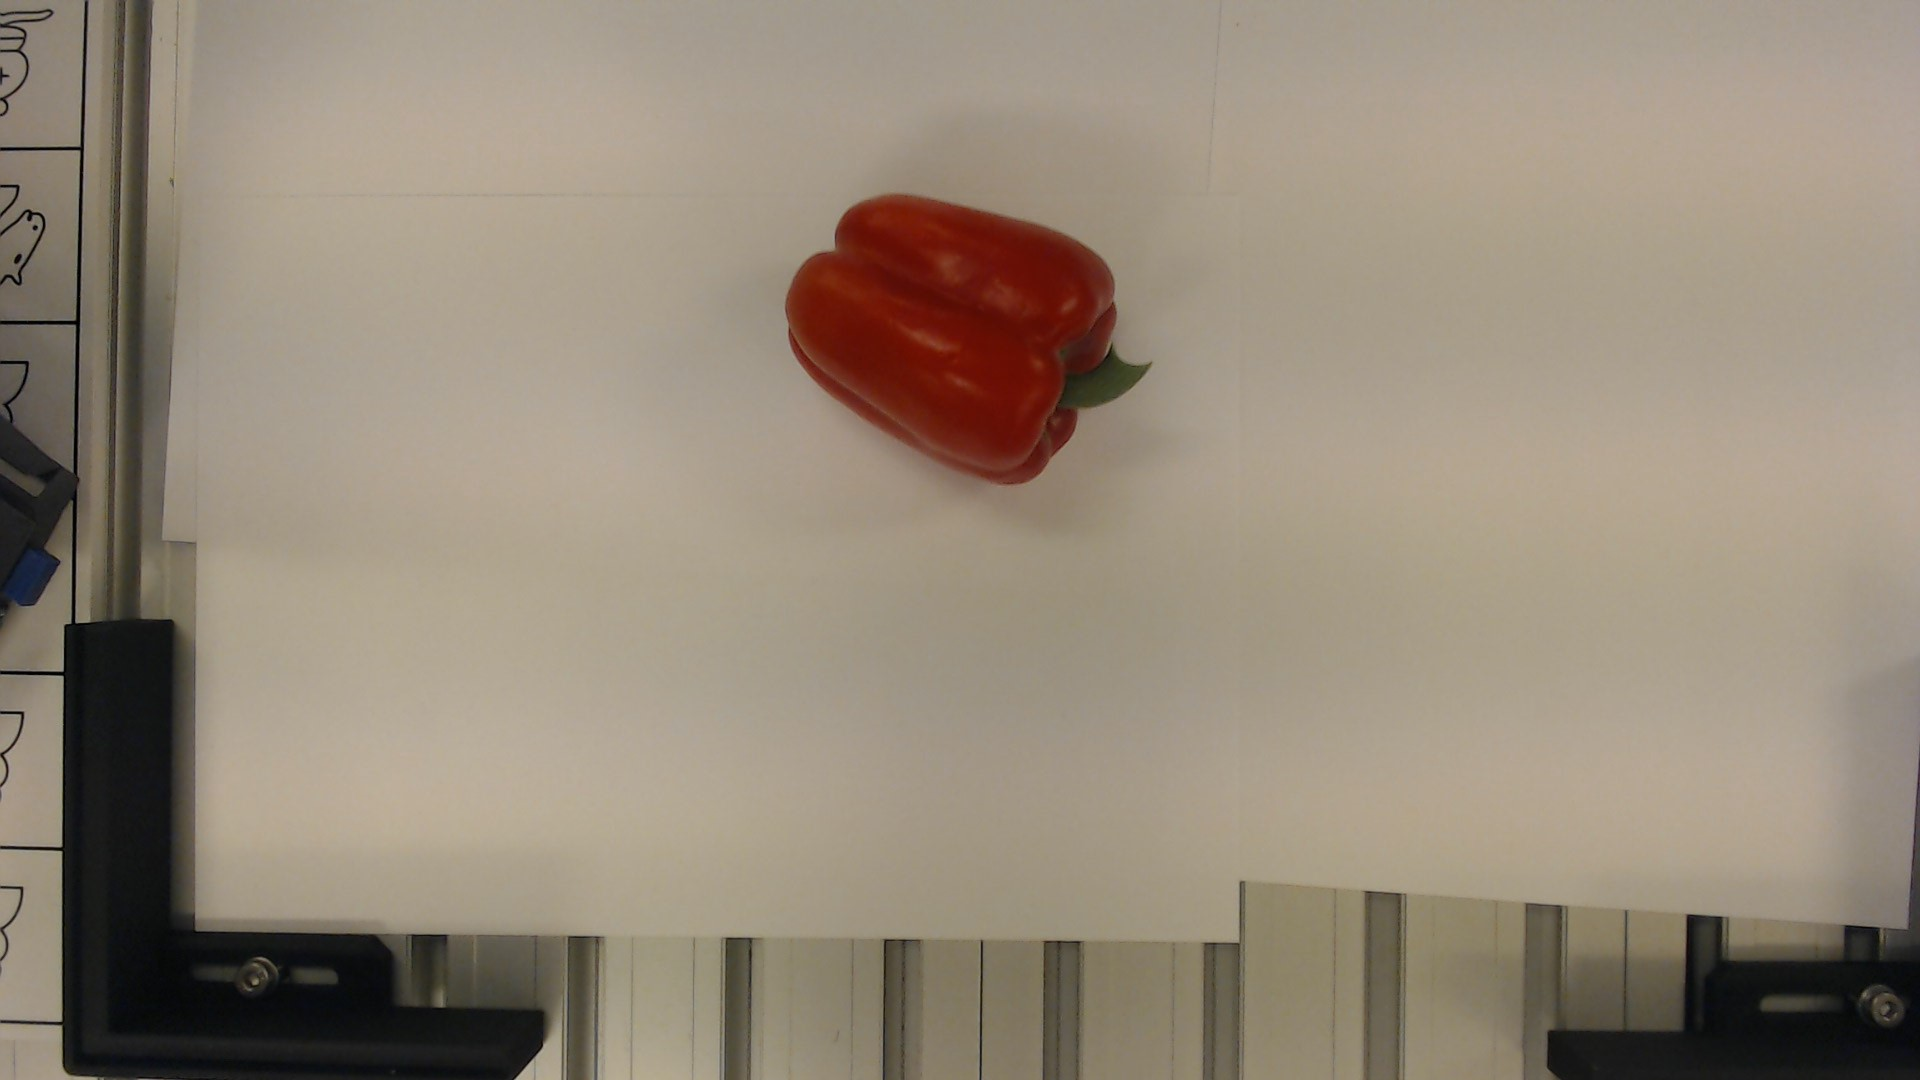Red Bell Pepper: (782, 177, 1158, 487)
